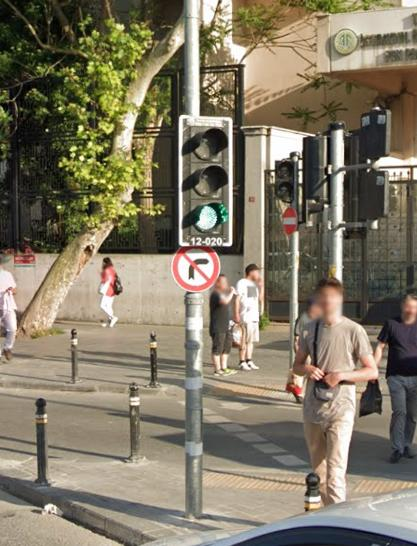greenlight: (183, 118, 228, 233)
rightturnsareforbidden: (173, 247, 219, 289)
